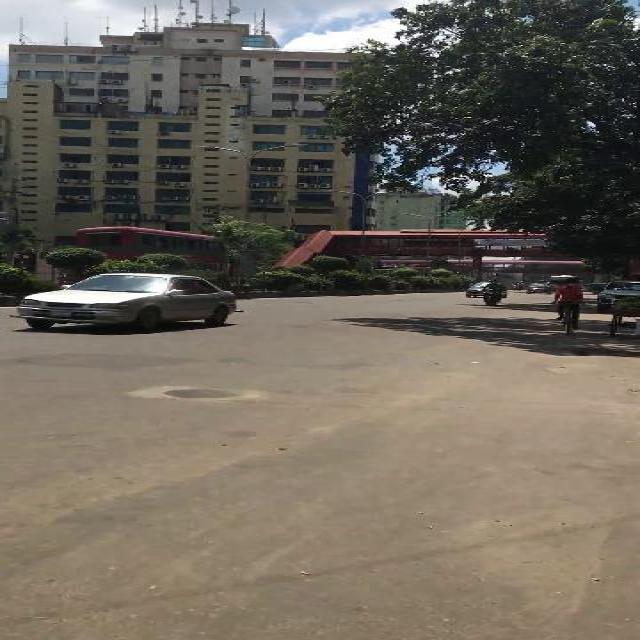bike: (551, 278, 583, 335), (478, 278, 505, 308)
vehicle: (12, 272, 242, 333), (595, 280, 637, 313), (466, 282, 507, 297), (527, 282, 552, 295)
